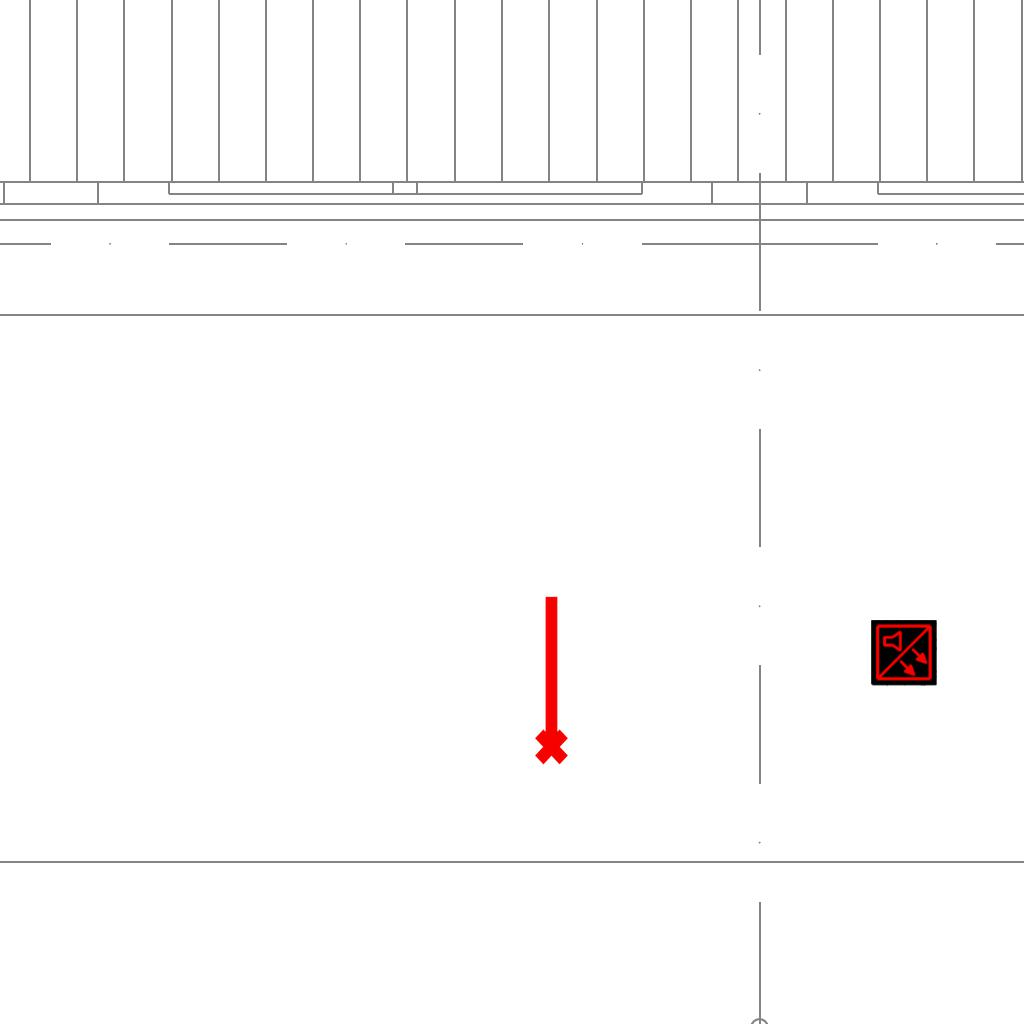ASR_Ansaugoeffnung: (526, 591, 572, 767)
OKW_Multisensormelder_(Kombination_optischer_Rauch-Kahlenmonoxid_Waerme-Melder): (871, 620, 937, 686)
